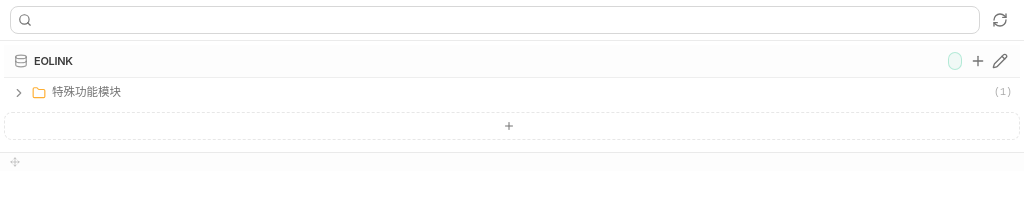
Scenario: DataSourcePanel › falls back to group_name when numeric group_path IDs cannot be resolved, never showing raw numbers
This screenshot has width=1024, height=216.
Step 1. Click the text "特殊功能模块" → coordinates (86, 92), box [52,85,121,99]
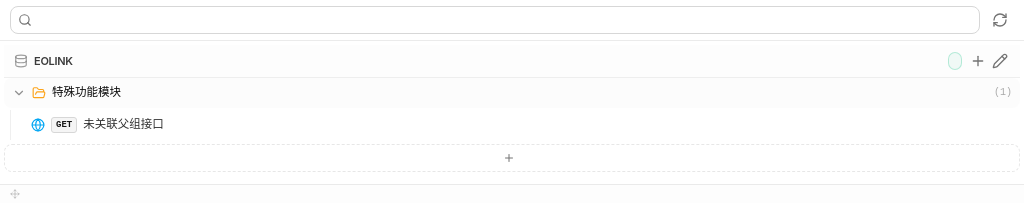
expect the text "未关联父组接口" is shown: met, box [83,117,164,131]
